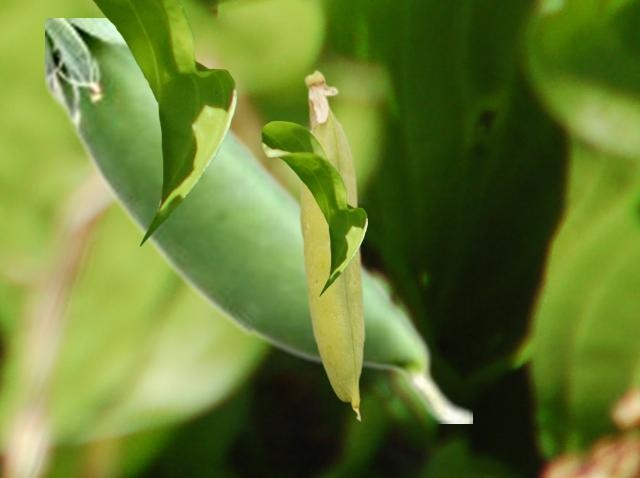pea: (45, 18, 471, 422), (299, 69, 365, 420)
